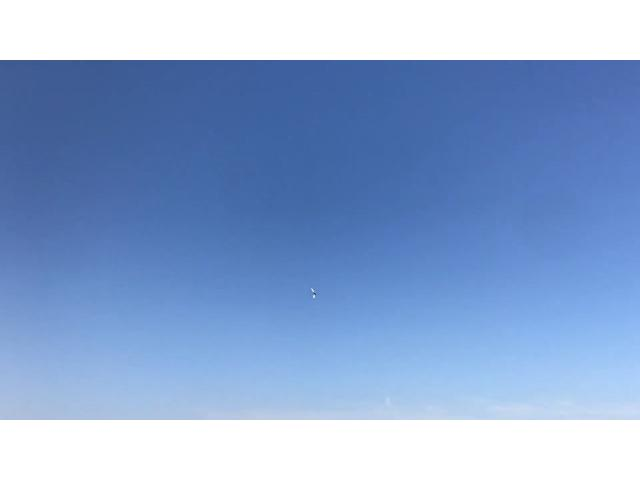Anti-Drone: (304, 280, 326, 306)
